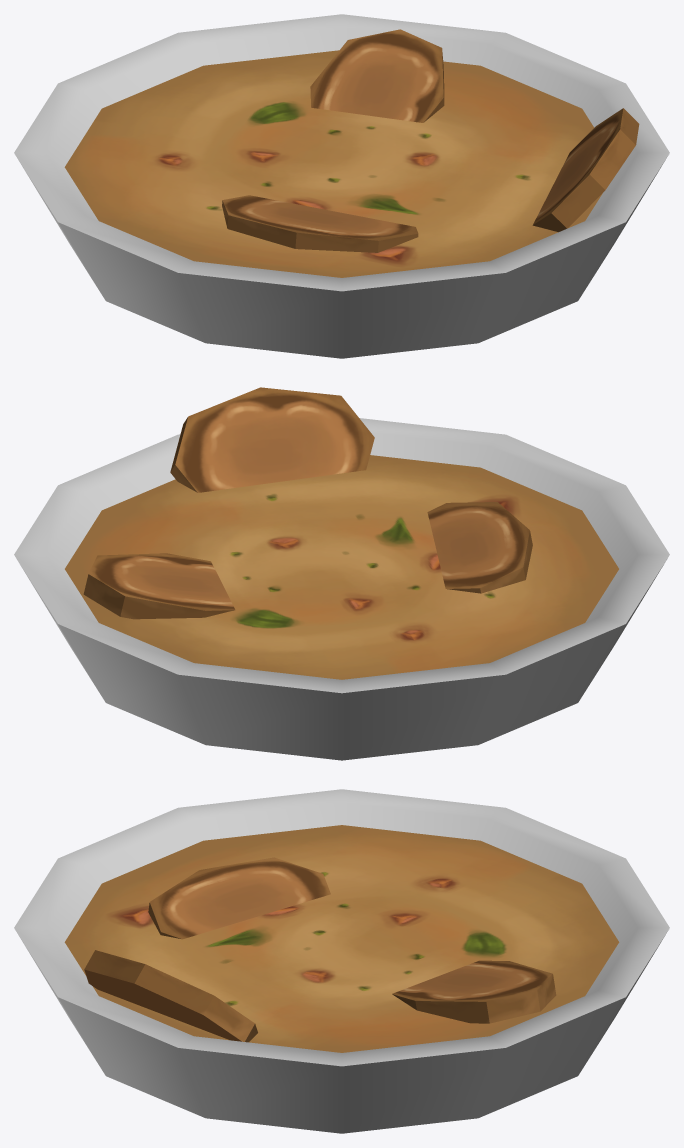
Rendered from Soup_2.fbx.
The picture shows the model from 3 angles, top to bottom: view 1: azimuth 30°, elevation 25°; view 2: azimuth 150°, elevation 25°; view 3: azimuth 270°, elevation 25°; orthographic projection.
Visible parts, largest first — view 1: polySurface356; view 2: polySurface356; view 3: polySurface356.
Part boxes in pixels (left/top/right/bottom): polySurface356: left=14, top=14, right=669, bottom=358; polySurface356: left=14, top=387, right=669, bottom=760; polySurface356: left=14, top=789, right=669, bottom=1133.
Bounding box in the file's own units: 0.7976 × 0.1907 × 0.7976.
